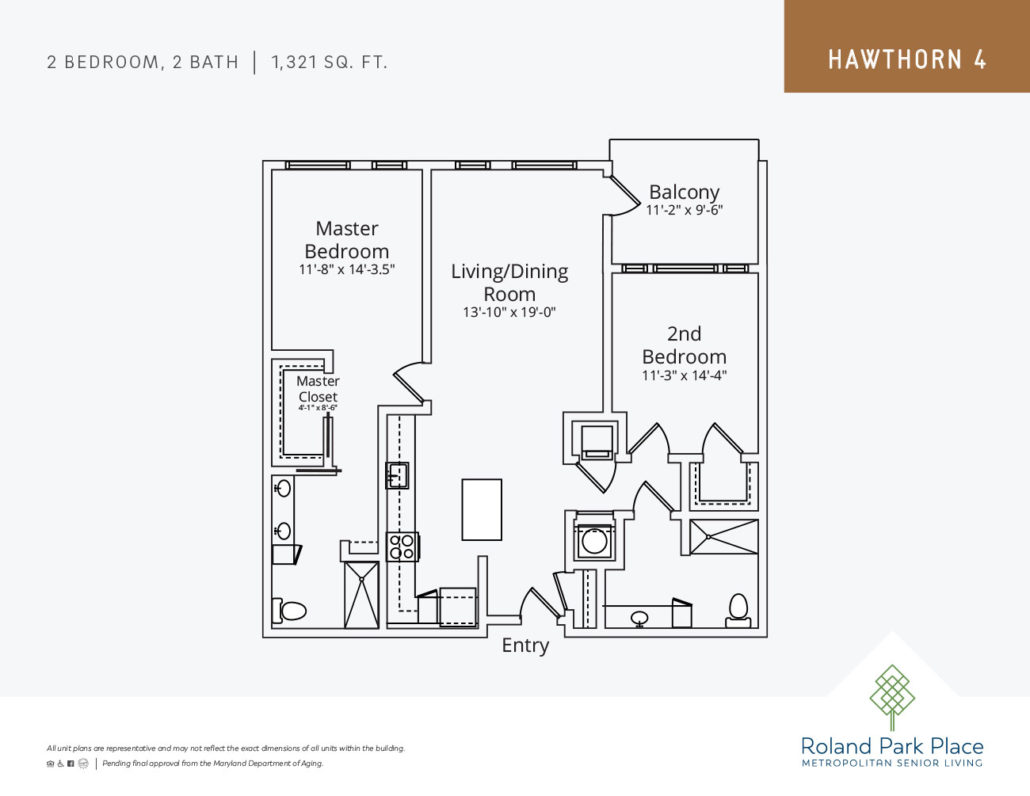door: (513, 574, 553, 616), (635, 418, 678, 447), (695, 420, 738, 446), (621, 177, 645, 214)
room: (419, 157, 615, 368), (261, 349, 386, 635), (264, 158, 433, 359)
window: (288, 159, 353, 172), (515, 159, 575, 172), (653, 264, 717, 276), (623, 260, 646, 278), (457, 158, 486, 171), (726, 262, 747, 276), (373, 159, 405, 168)
